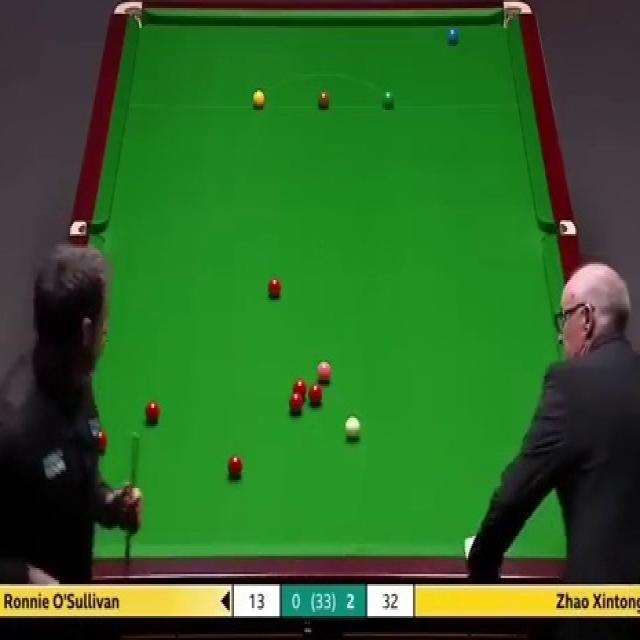blue-ball: (448, 27, 458, 48)
brown-ball: (317, 92, 330, 109)
green-ball: (382, 88, 396, 112)
pink-ball: (316, 361, 333, 382)
red-ball: (226, 453, 244, 477), (288, 389, 304, 414), (146, 400, 160, 424), (293, 378, 307, 402), (266, 278, 282, 297), (309, 385, 323, 404)
white-ball: (343, 417, 363, 443)
yellow-ball: (252, 89, 266, 110)
